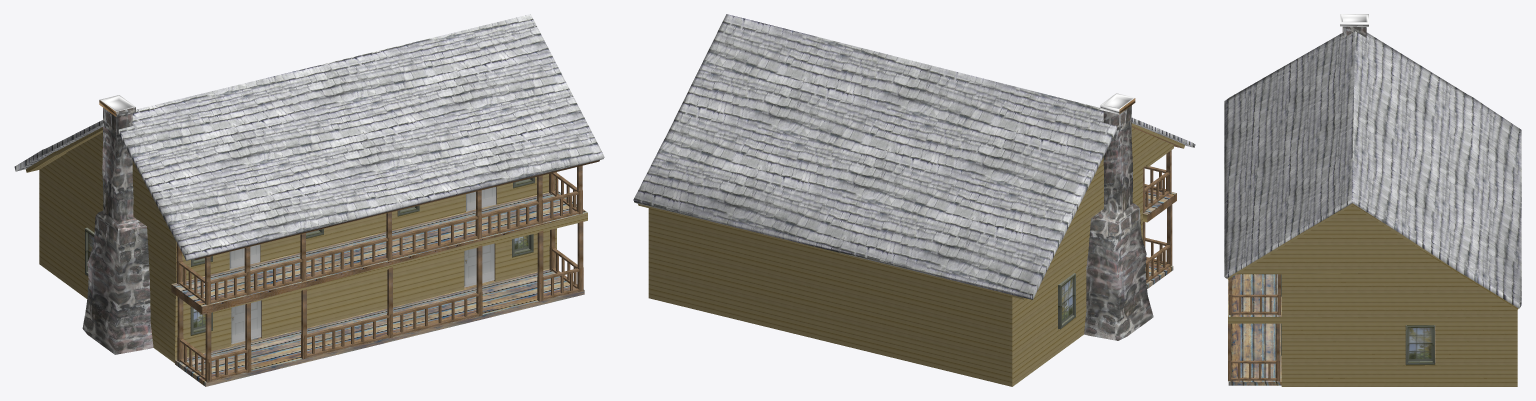
The model's file is farmhouse1.fbx.
3 renders of one model, left to right at view 1: azimuth 30°, elevation 25°; view 2: azimuth 150°, elevation 25°; view 3: azimuth 270°, elevation 25°, orthographic. The views are drawn at different scales.
Visible parts, largest first — view 1: U3DMesh; view 2: U3DMesh; view 3: U3DMesh.
Part boxes in pixels (x1,y1,x2,y2): U3DMesh: [14, 14, 604, 386]; U3DMesh: [633, 14, 1195, 386]; U3DMesh: [1224, 14, 1521, 386].
Size of the model in its own units: 28.82 by 14.92 by 19.93.
Materials: 11 (10 with a texture image).
